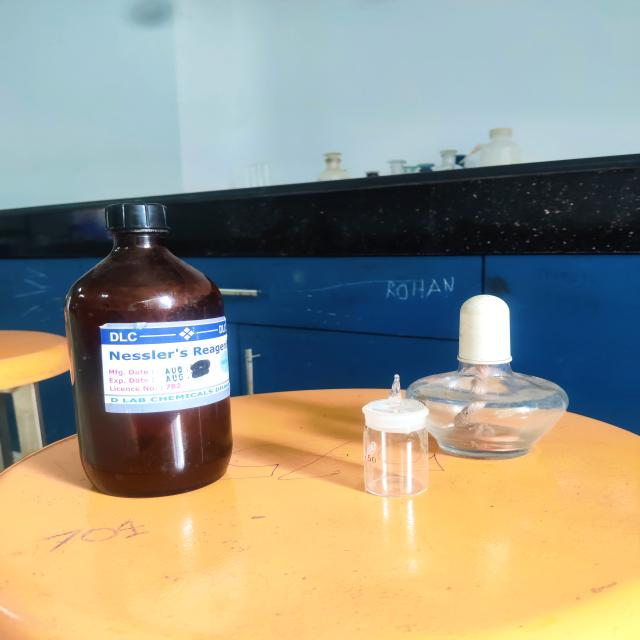Nessler_Reagent_Bottle: (43, 186, 260, 516)
Spirit_Lamp: (399, 285, 597, 475)
Weighing_Bottle: (333, 366, 450, 506)
